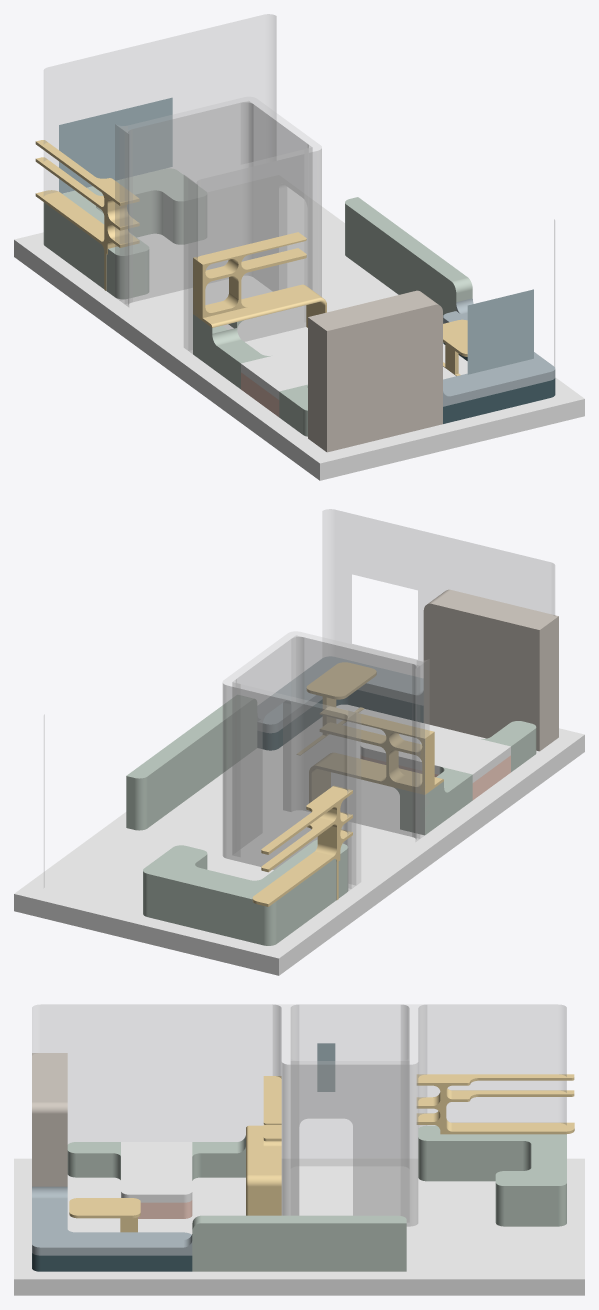
The picture shows the model from 3 angles, top to bottom: view 1: azimuth 30°, elevation 25°; view 2: azimuth 150°, elevation 25°; view 3: azimuth 270°, elevation 25°; orthographic projection. The views are drawn at different scales.
Visible parts, largest first — view 1: 墙面, 图层 03, 矮柜cube, 高柜cube, shelf, 图层 02, 沙发软垫, 床软垫, 沙发cube, 床cube - 复制; view 2: 墙面, 图层 03, 矮柜cube, 高柜cube, shelf, 沙发软垫, 床软垫, 沙发cube, 床cube - 复制; view 3: 墙面, 图层 03, 矮柜cube, shelf, 沙发软垫, 高柜cube, 床软垫, 沙发cube, 图层 02, 床cube - 复制.
Part boxes in pixels (x1,y1,x2,y2): 墙面: (44, 14, 554, 366); 图层 03: (14, 175, 584, 480); 矮柜cube: (43, 168, 472, 436); 高柜cube: (308, 290, 442, 452); shelf: (35, 140, 467, 376); 图层 02: (59, 97, 533, 374); 沙发软垫: (443, 298, 555, 406); 床软垫: (241, 347, 307, 399); 沙发cube: (443, 342, 555, 423); 床cube - 复制: (241, 372, 279, 417); 墙面: (44, 509, 554, 891); 图层 03: (14, 704, 584, 975); 矮柜cube: (126, 695, 536, 945); 高柜cube: (423, 589, 558, 751); shelf: (252, 662, 443, 906); 沙发软垫: (257, 656, 423, 733); 床软垫: (360, 719, 510, 782); 沙发cube: (257, 690, 423, 750); 床cube - 复制: (360, 754, 510, 800); 墙面: (32, 1004, 566, 1226); 图层 03: (14, 1158, 584, 1295); 矮柜cube: (67, 1125, 566, 1271); shelf: (69, 1074, 574, 1232); 沙发软垫: (32, 1186, 192, 1255); 高柜cube: (32, 1053, 67, 1186); 床软垫: (121, 1142, 192, 1202); 沙发cube: (32, 1253, 192, 1271); 图层 02: (317, 1043, 335, 1091); 床cube - 复制: (138, 1200, 192, 1218).
Size of the model in its own units: 4.8 by 3.3 by 9.6.
